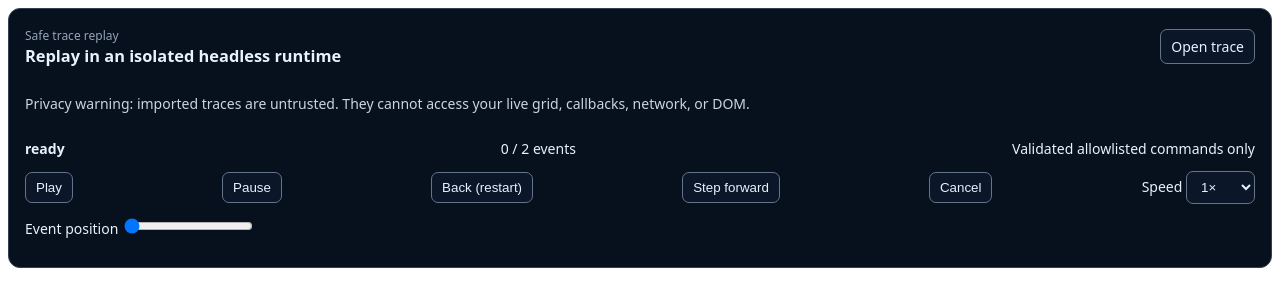
Test case: GridTraceReplayControls › cancels queued replay work before it can advance the UI
Click the button "Play".
click(49, 187)  # box 25,172 -> 73,203
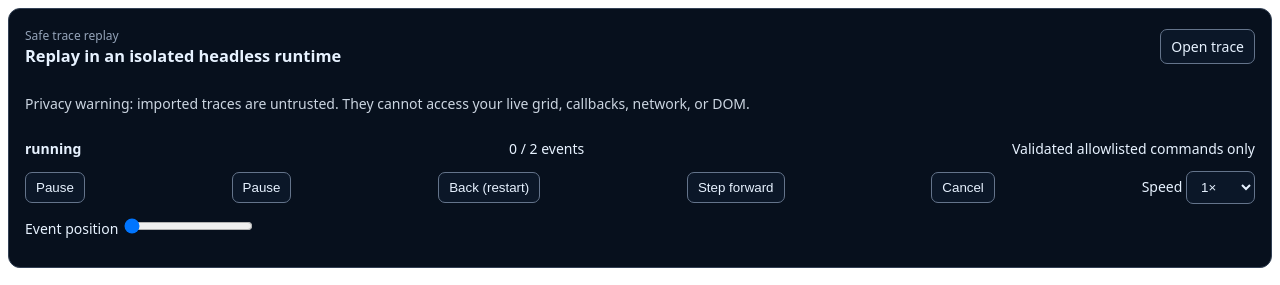
Click the button "Cancel".
click(963, 187)  # box 931,172 -> 995,203
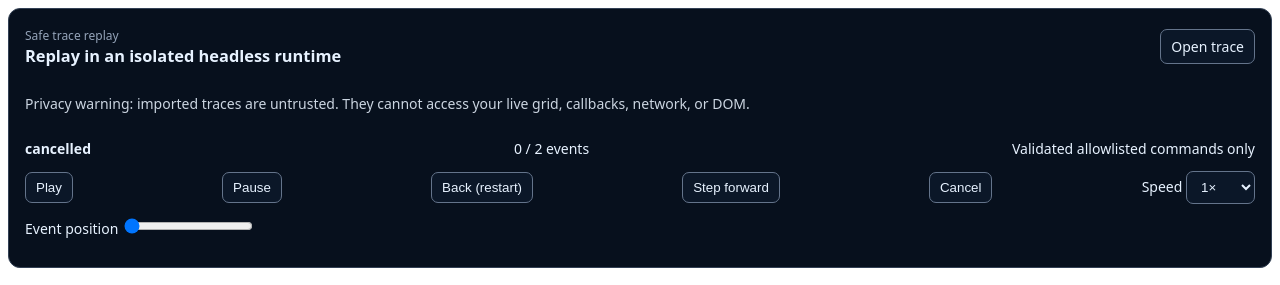
Expected: the text "0 / 2 events" is shown, 514,139 -> 589,159
Expected: the text "cancelled" is shown, 25,139 -> 91,159
